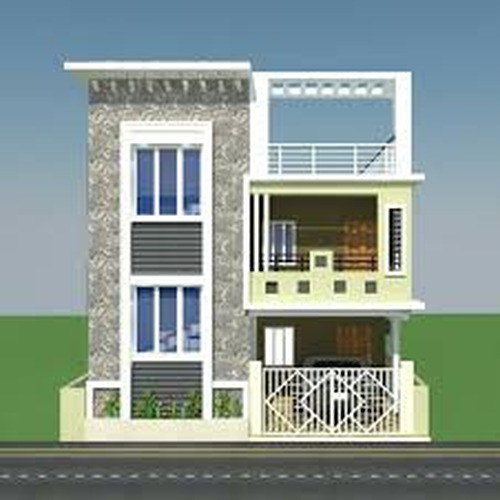Building House: (58, 56, 439, 447)
